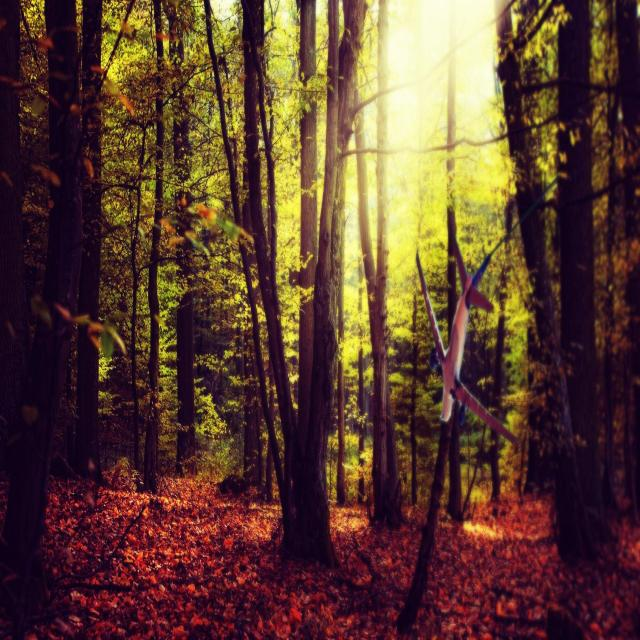airplane: (414, 238, 521, 448)
